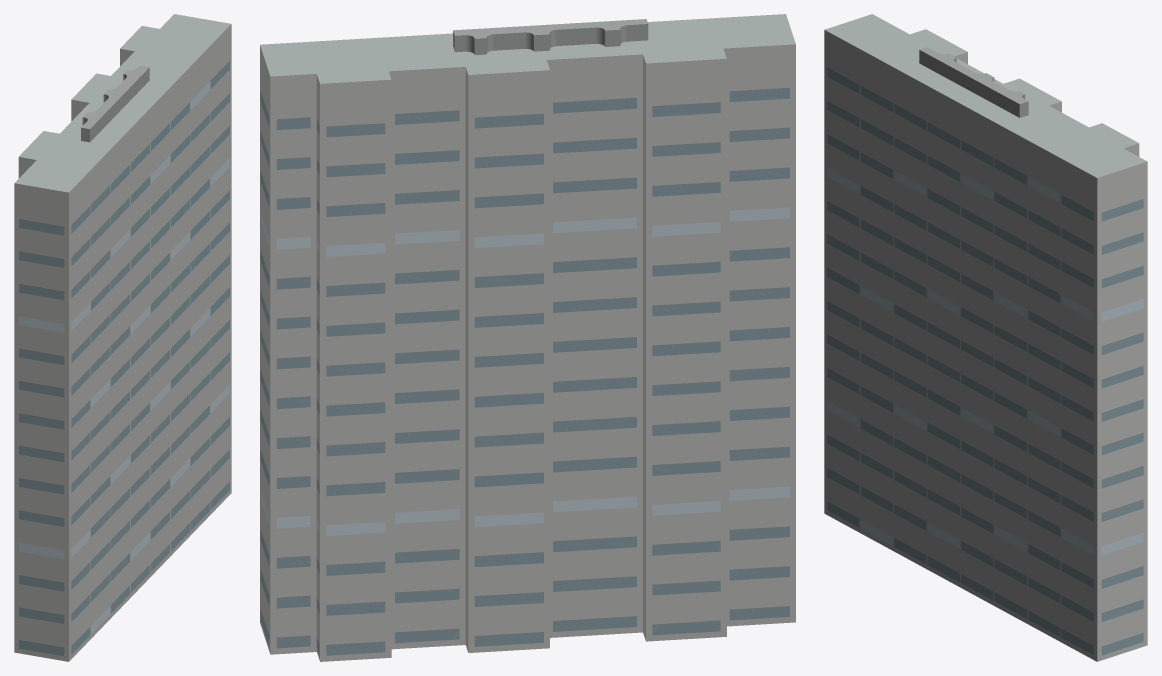
Rendered from fallback-gaepo-raemian-forest-118.glb.
The picture shows the model from 3 angles, left to right: view 1: azimuth 30°, elevation 25°; view 2: azimuth 150°, elevation 25°; view 3: azimuth 270°, elevation 25°; orthographic projection. The views are drawn at different scales.
Visible parts, largest first — view 1: fallback-gaepo-raemian-forest-118; view 2: fallback-gaepo-raemian-forest-118; view 3: fallback-gaepo-raemian-forest-118.
Part boxes in pixels (left/top/right/bottom): fallback-gaepo-raemian-forest-118: left=14, top=14, right=231, bottom=661; fallback-gaepo-raemian-forest-118: left=260, top=14, right=795, bottom=661; fallback-gaepo-raemian-forest-118: left=824, top=14, right=1147, bottom=661.
Size of the model in its own units: 61.51 by 87 by 51.21.
